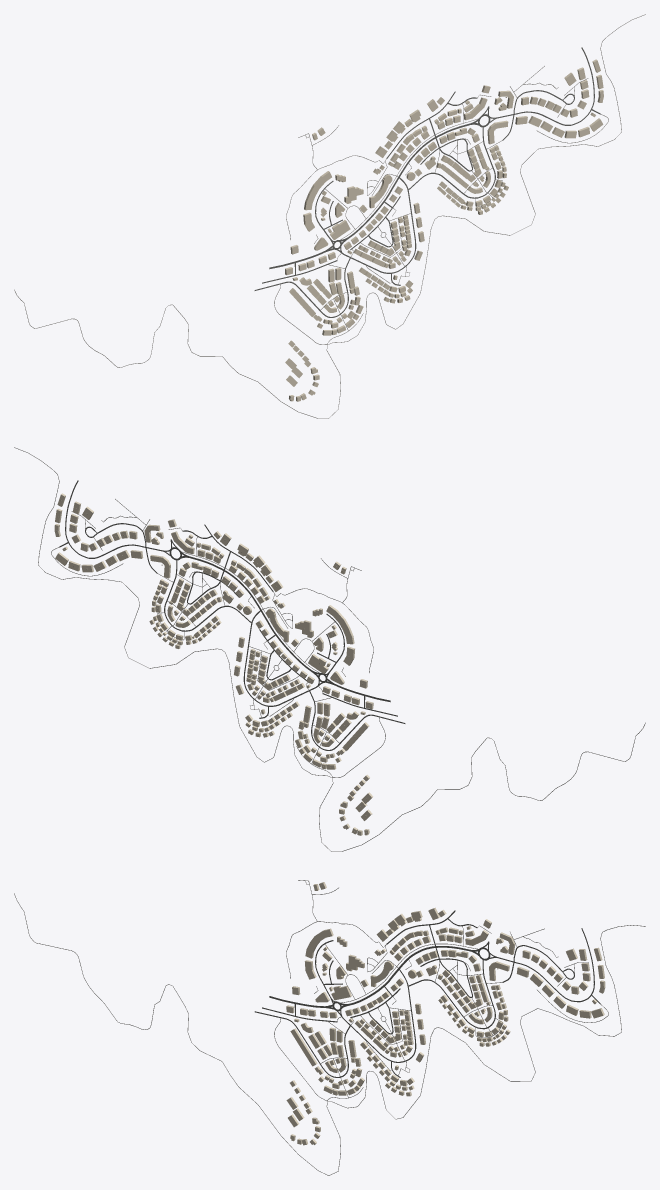
The model's file is historic-palestine-11_23_3530_3176.glb.
3 renders of one model, top to bottom at view 1: azimuth 30°, elevation 25°; view 2: azimuth 150°, elevation 25°; view 3: azimuth 330°, elevation 25°, orthographic.
Visible parts, largest first — view 1: Road .005; view 2: Road .005; view 3: Road .005.
Part boxes in pixels (<box>): Road .005: <box>14,14,645,418</box>; Road .005: <box>14,447,645,851</box>; Road .005: <box>14,893,645,1175</box>.
Size of the model in its own units: 1864 by 922 by 8.7.
